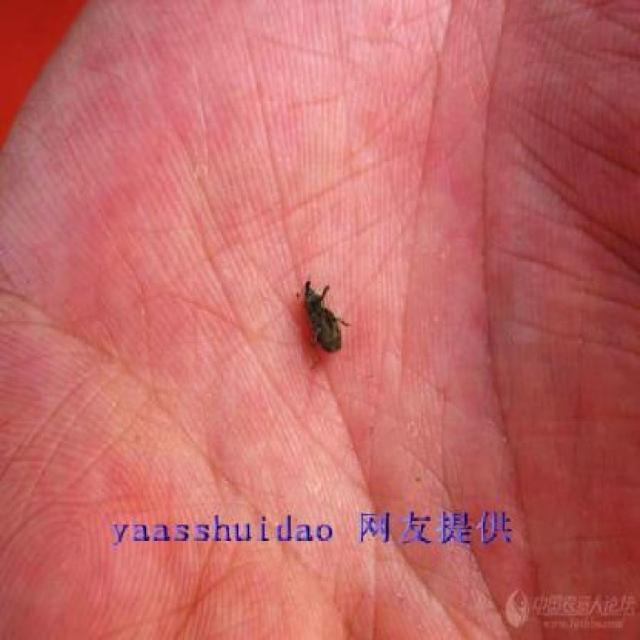rice-bug: (301, 279, 345, 353)
